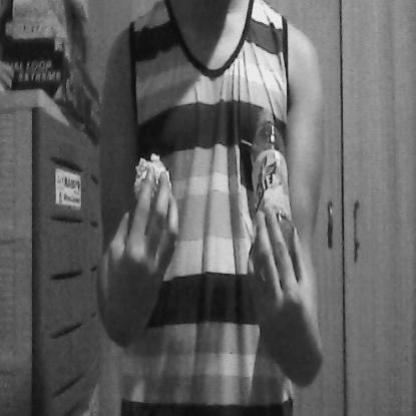Plastic Bottle: (242, 98, 300, 259)
